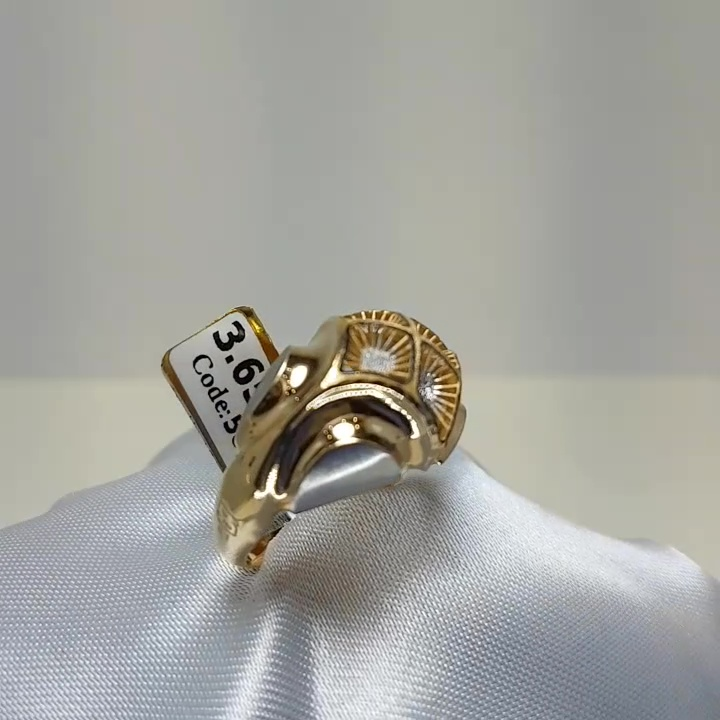Ring 2: (149, 280, 487, 580)
